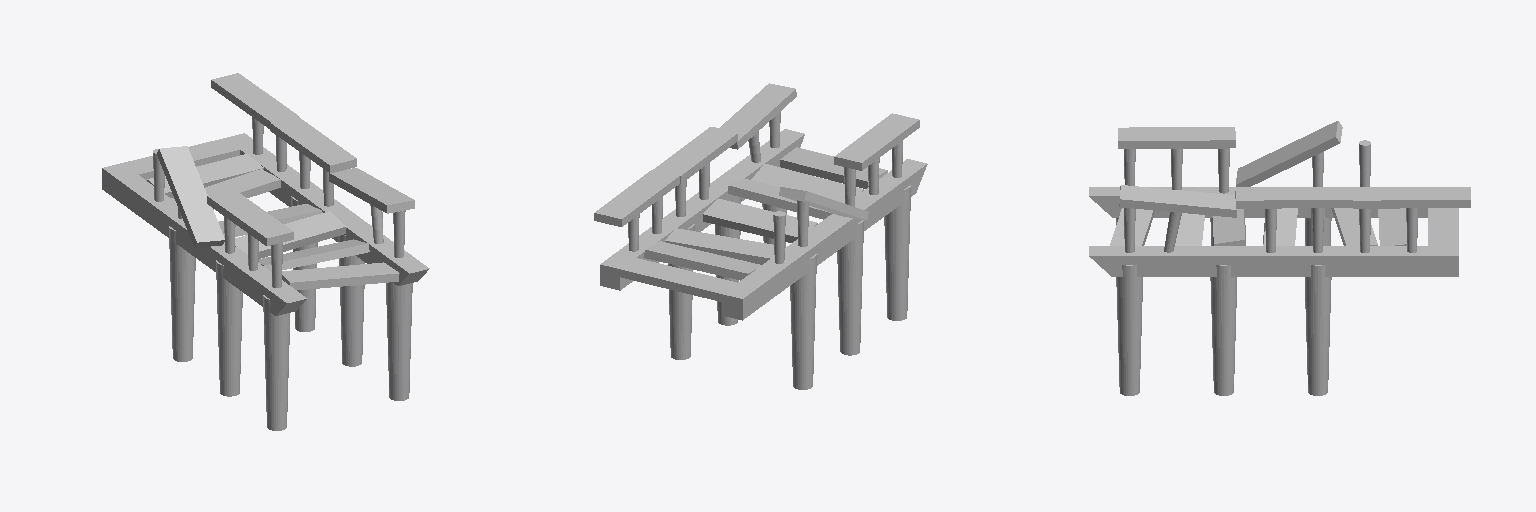
The model's file is marina.obj.
3 views of the same model, side by side, from view 1: azimuth 30°, elevation 25°; view 2: azimuth 150°, elevation 25°; view 3: azimuth 270°, elevation 25° (orthographic).
Parts seen in each view (by area): view 1: Cube.010_Cube.011; view 2: Cube.010_Cube.011; view 3: Cube.010_Cube.011.
Boxes of the visible parts, box(x1,y1,x2,y2) form: Cube.010_Cube.011: box(102, 73, 429, 430); Cube.010_Cube.011: box(594, 83, 927, 389); Cube.010_Cube.011: box(1089, 121, 1470, 395).
Bounding box in the file's own units: 7.88 × 9.62 × 16.24.